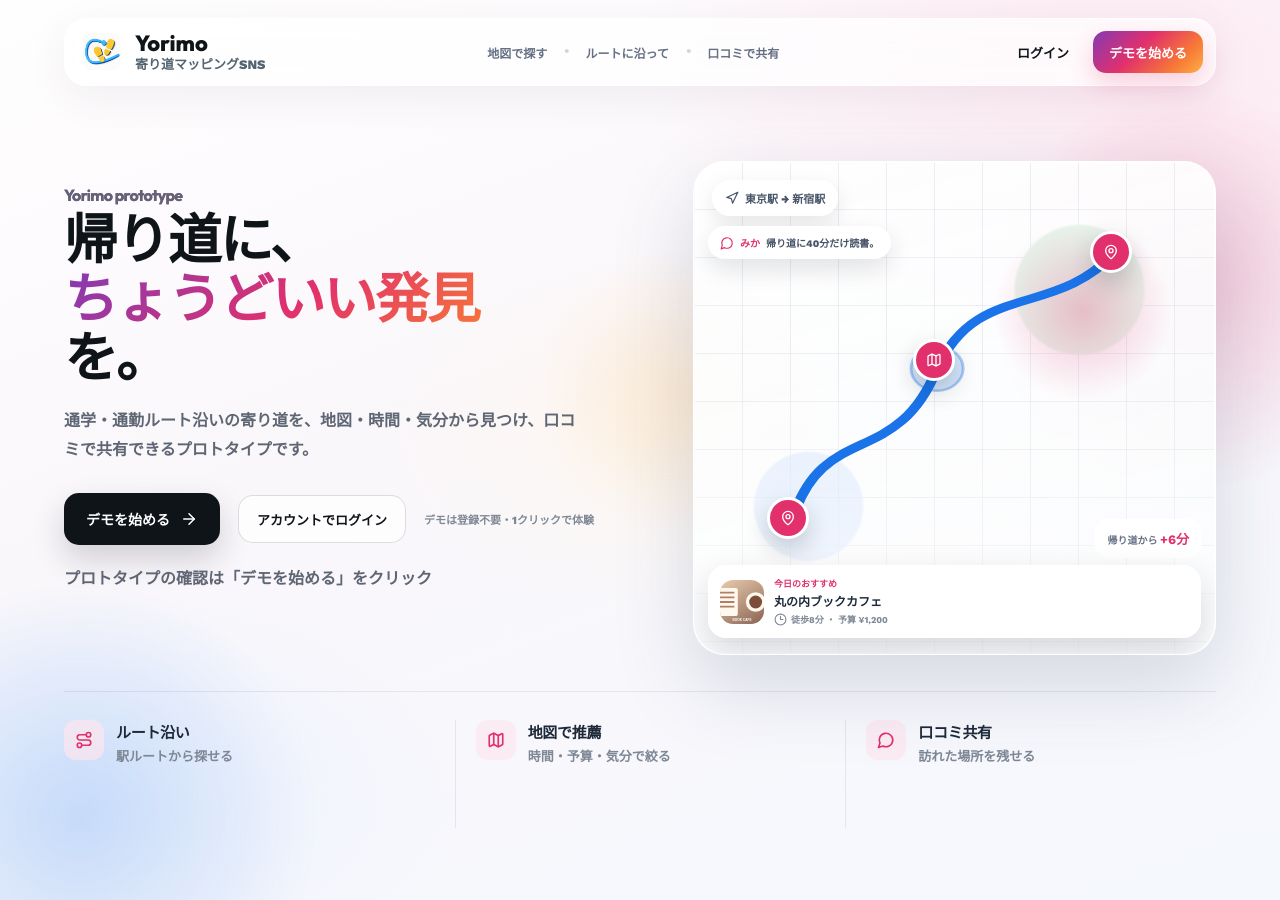
Yorimo frontend › shows demo startup failures in the auth gate
Click the button "デモを始める" in the row of "ルートに沿って": (1148, 52) [1093,31,1203,73]
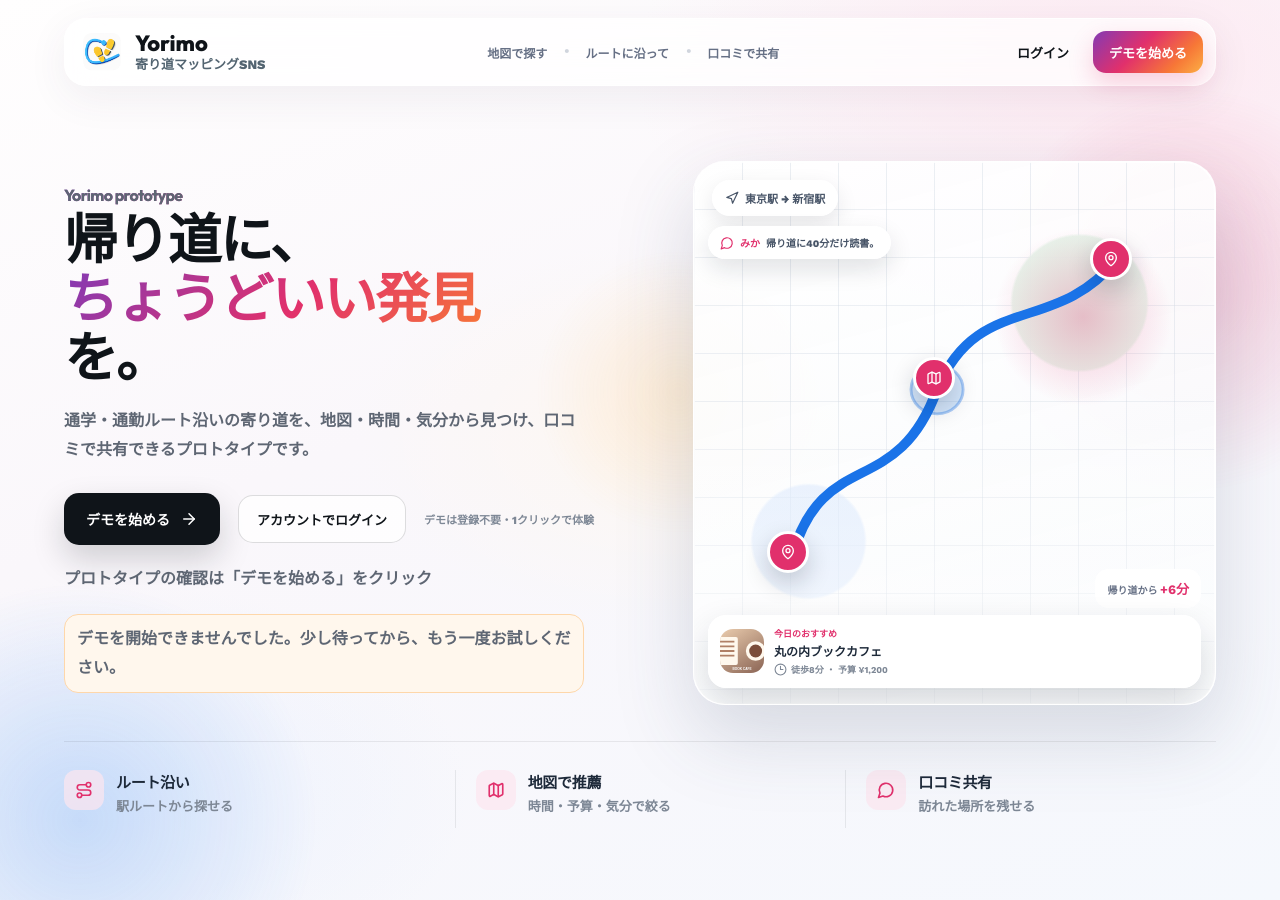
Expected: the text "デモを開始できませんでした。少し待ってから、もう一度お試しください。" is shown, [64,614,584,693]
